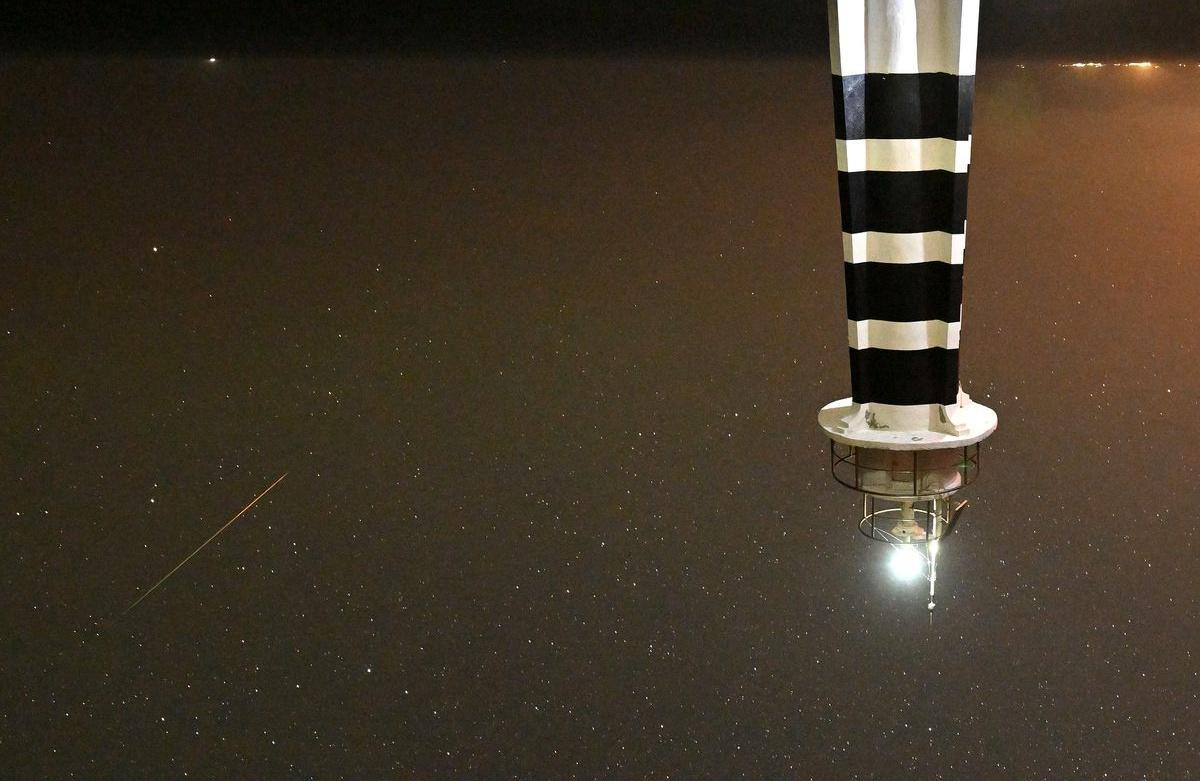meteorite: (124, 461, 309, 616)
